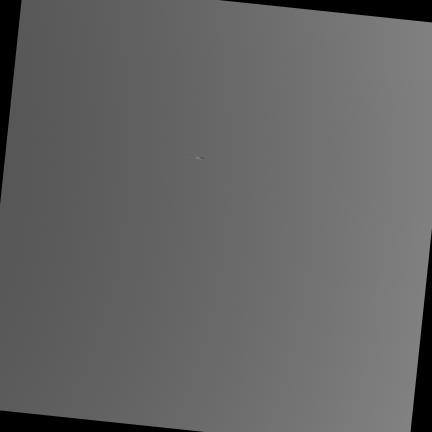Shahed: (190, 155, 204, 158)
